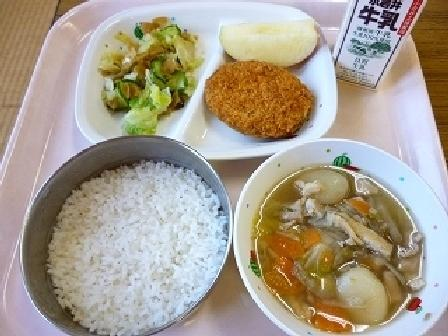Apple: (216, 18, 321, 70)
Milk: (332, 0, 434, 92)
Rice: (30, 147, 228, 332)
Salad: (87, 15, 190, 126)
Soups: (245, 155, 444, 328)
cutlet: (202, 58, 324, 143)
